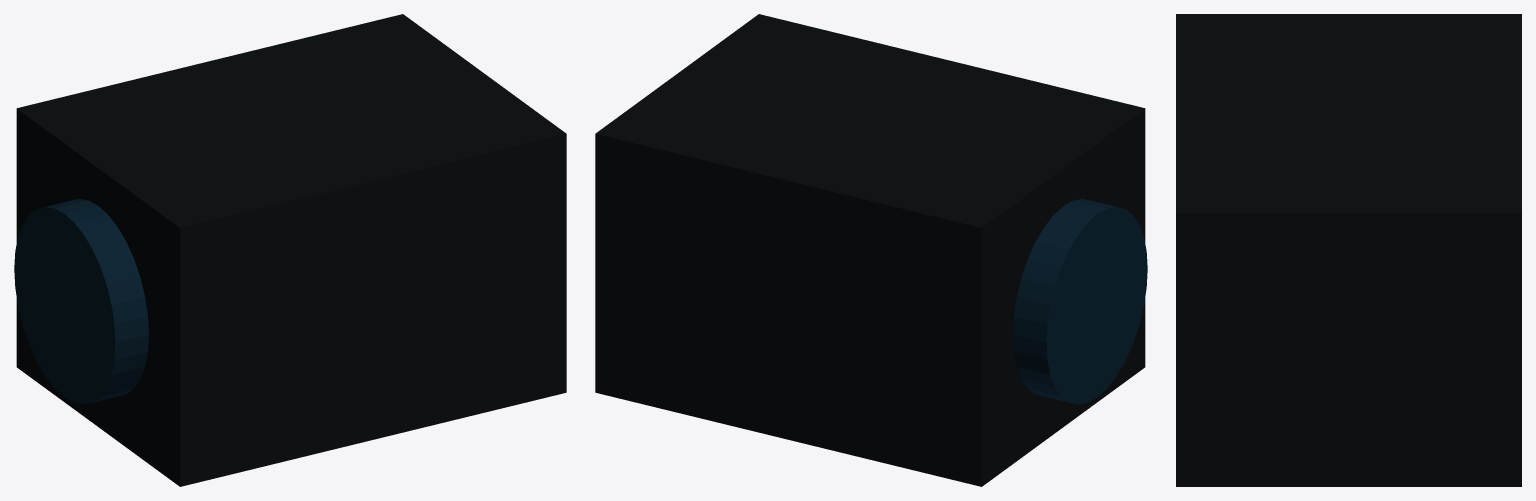
The model's file is sensor_CAM_BACK.dae.
The picture shows the model from 3 angles, left to right: view 1: azimuth 30°, elevation 25°; view 2: azimuth 150°, elevation 25°; view 3: azimuth 270°, elevation 25°; orthographic projection. The views are drawn at different scales.
Parts seen in each view (by area): view 1: node; view 2: node; view 3: node.
Part boxes in pixels (x1,y1,x2,y2): node: (14,14,566,486); node: (595,14,1147,486); node: (1176,14,1521,486).
Size of the model in its own units: 0.0815 by 0.055 by 0.048.
